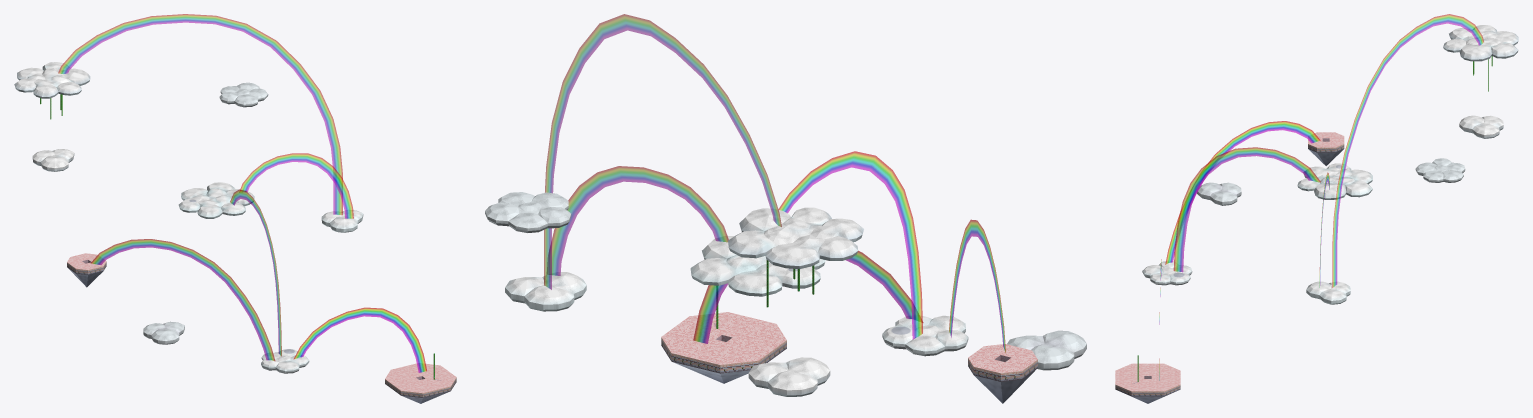
The model's file is rainbow_mario_all.glb.
3 renders of one model, left to right at view 1: azimuth 30°, elevation 25°; view 2: azimuth 150°, elevation 25°; view 3: azimuth 270°, elevation 25°, orthographic. The views are drawn at different scales.
Parts seen in each view (by area): view 1: rainbow_mario_all; view 2: rainbow_mario_all; view 3: rainbow_mario_all.
Boxes of the visible parts, x1,y1,x2,y2 form: rainbow_mario_all: [14, 14, 456, 403]; rainbow_mario_all: [485, 14, 1086, 403]; rainbow_mario_all: [1115, 14, 1518, 403].
Bounding box in the file's own units: 9.52 × 9.86 × 11.08.
Materials: 10 (10 with a texture image).
